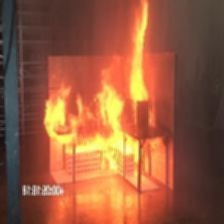fire: (39, 1, 177, 181)
